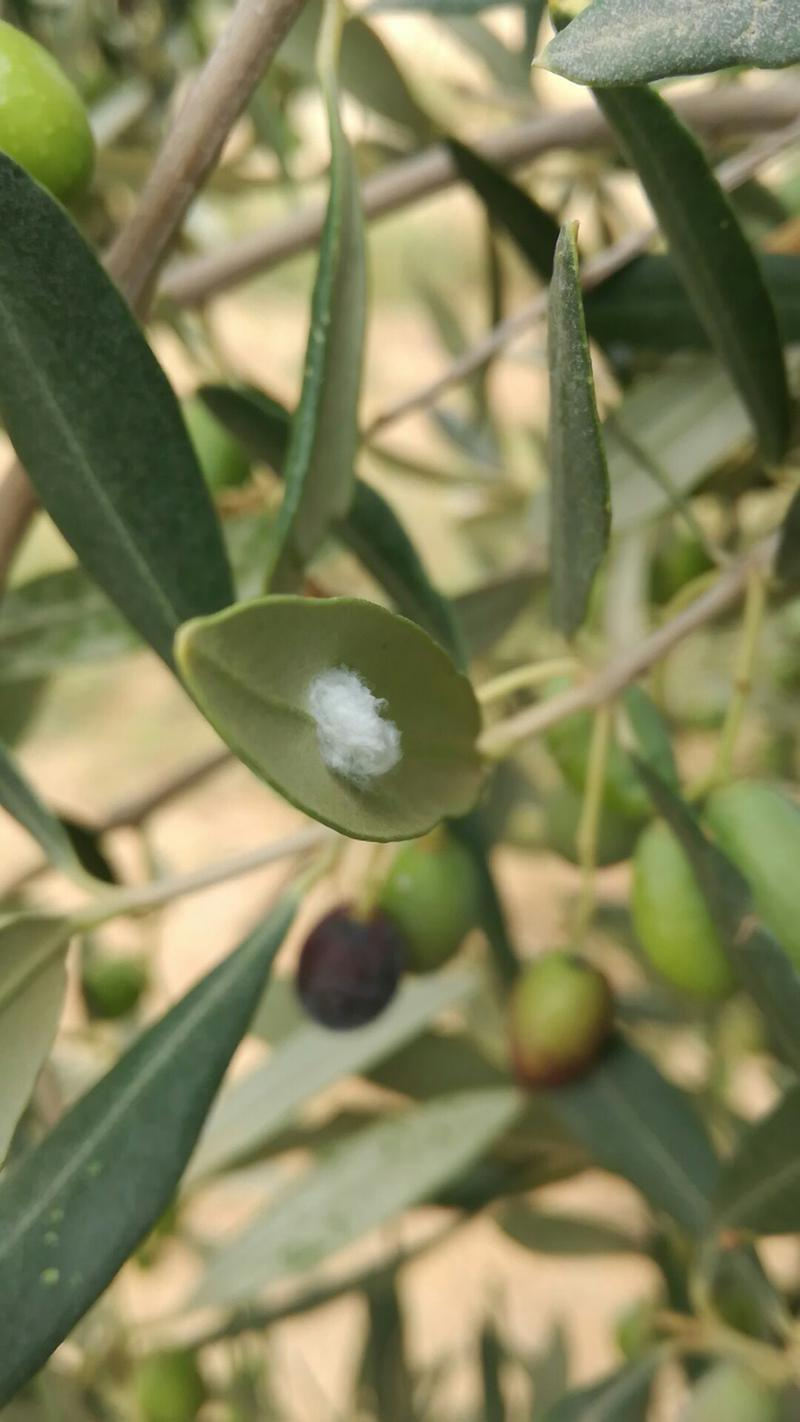Psyllid: (286, 648, 424, 818)
